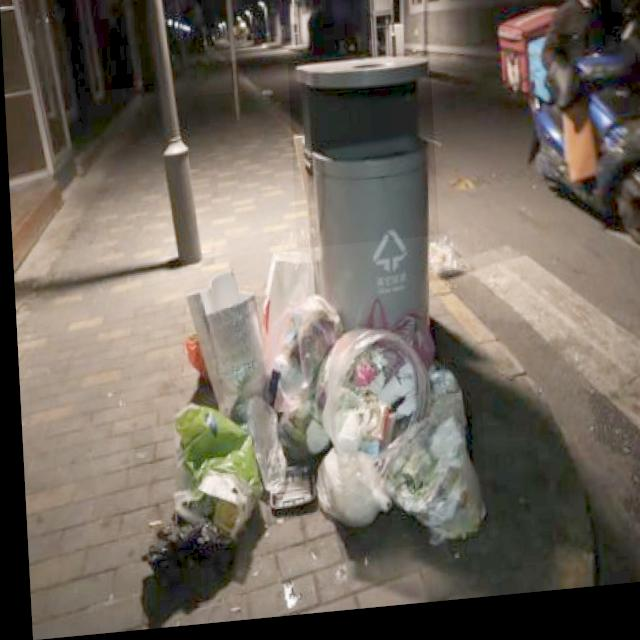garbage: (136, 241, 483, 573)
garbage_bin: (287, 59, 440, 337)
